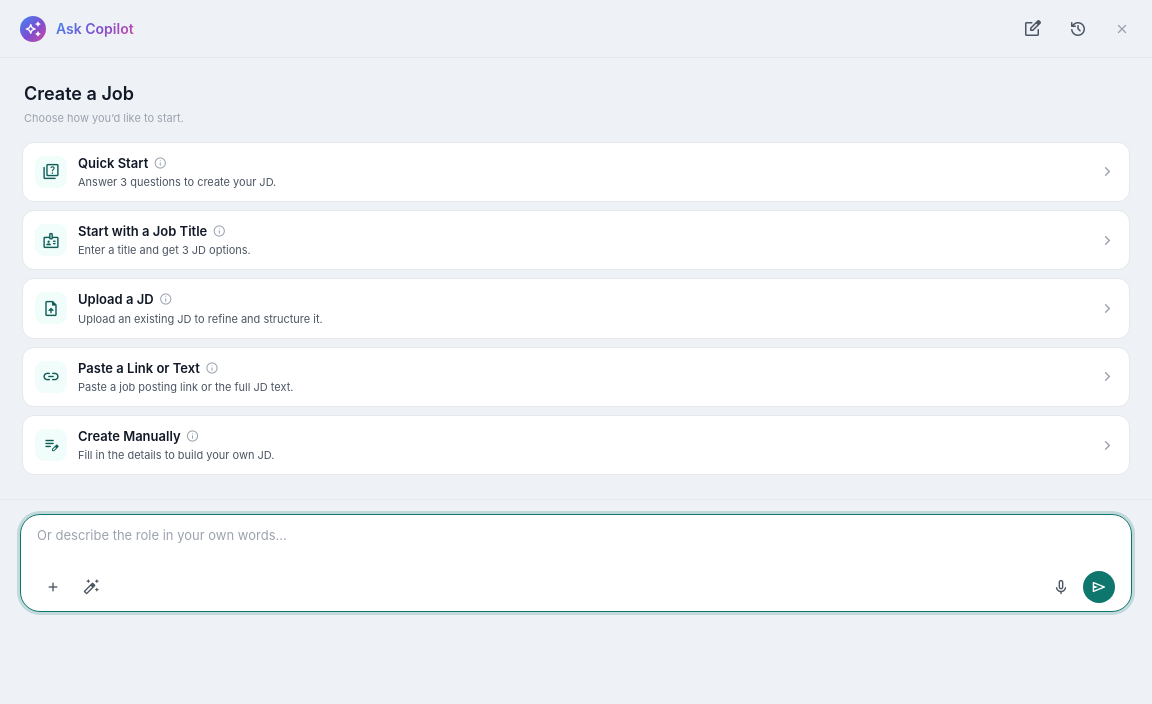
#99: refine only reports real changes › asked for salary but only other fields changed → says the salary was not changed, never "updated"
Click the text "Start with a Job Title": x=153, y=231 [78,222,228,240]
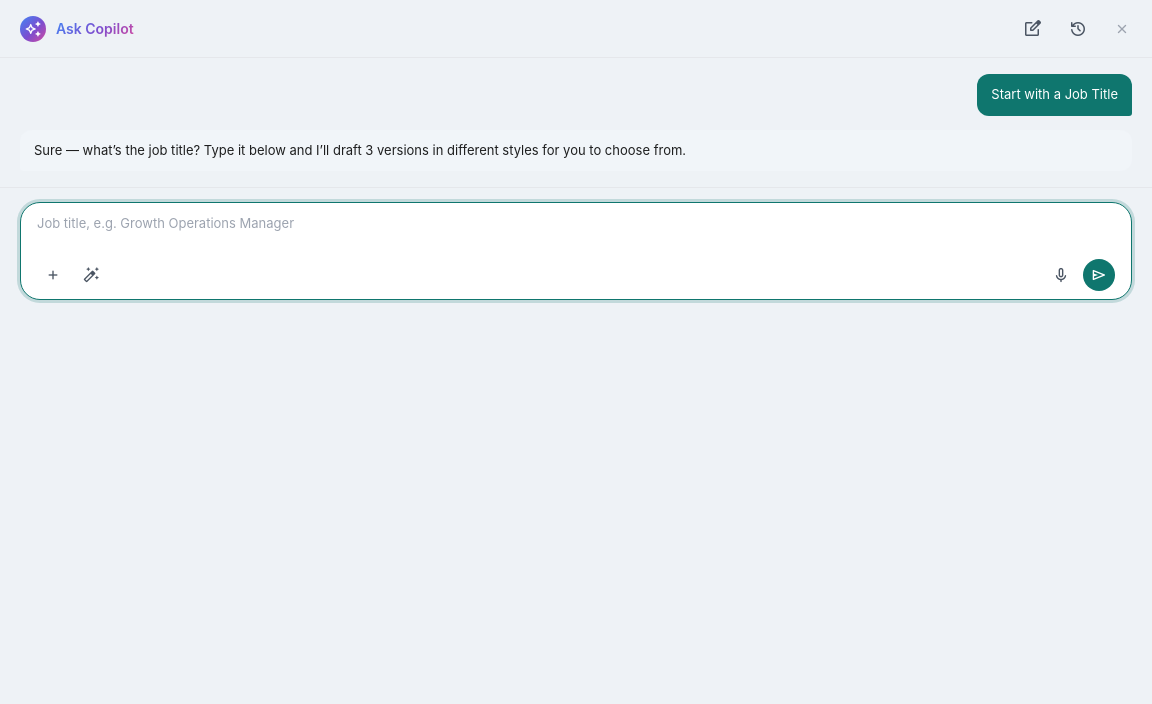
In the text box with placeholder "Job title, e.g. Growth Operations Manager": x=576, y=234 [37,214,1115,253], type "Finance Manager"
Click the button named "Send": x=1099, y=275 [1083,259,1115,291]
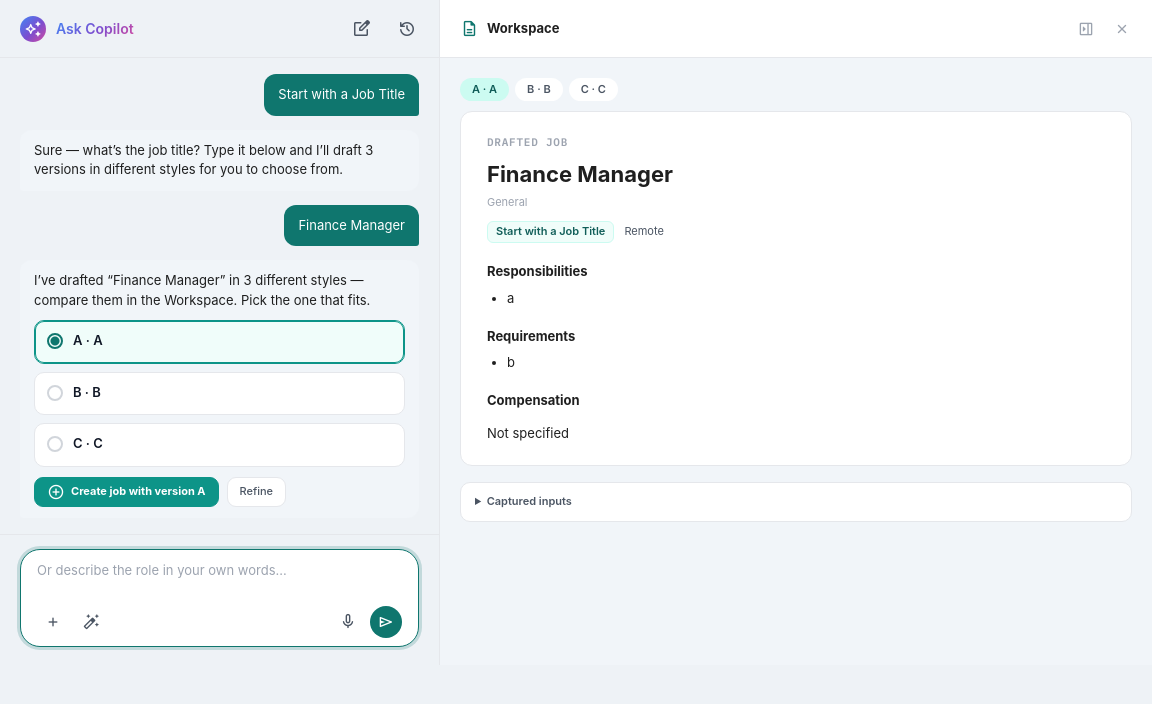
In the text box with placeholder "Or describe the role in your own words…": x=220, y=580 [37,560,402,600], type "按照上面的薪资标准写到JD里"
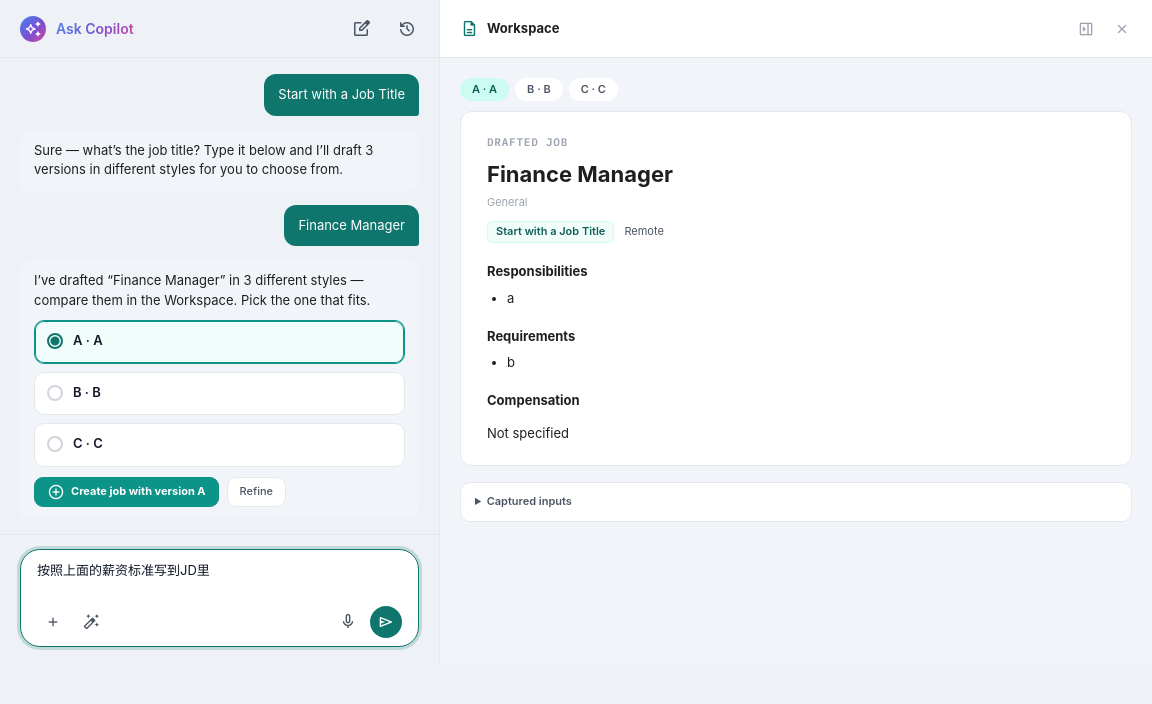
Click the button named "Send": x=386, y=622 [370,606,402,638]
(page scrolled)
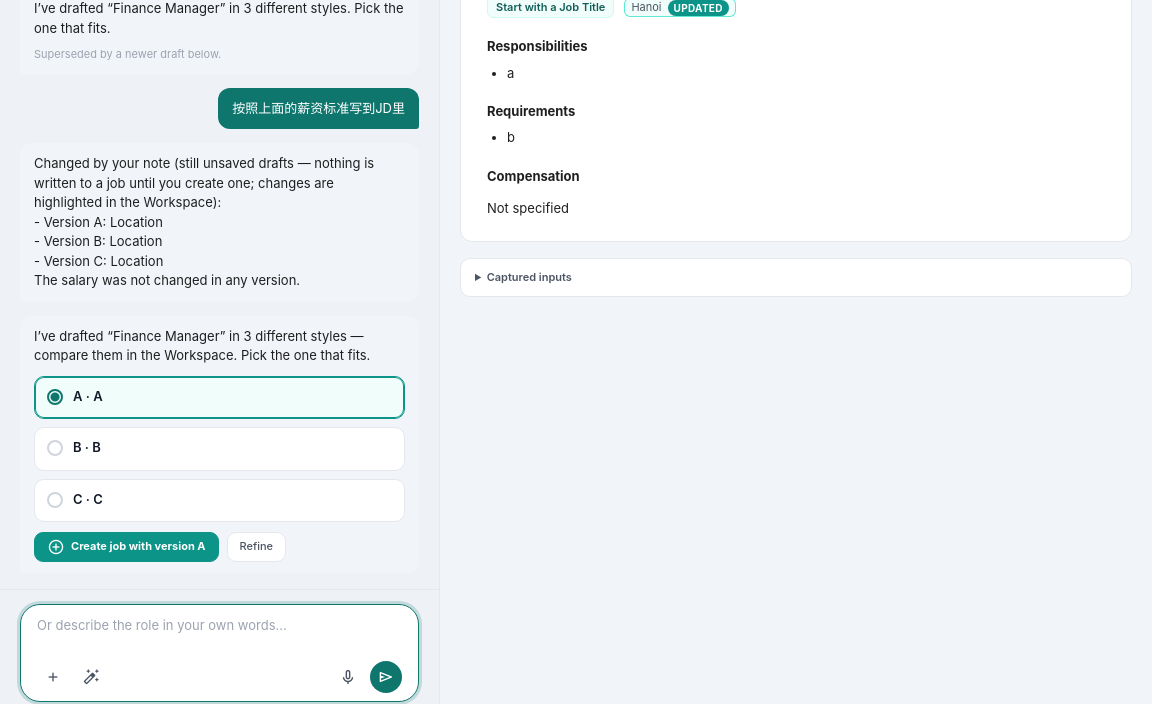
expect the text "still unsaved drafts" shows "- Version A: Location": met, box [34,155,378,288]
expect the text "still unsaved drafts" shows "The salary was not changed in any version.": met, box [34,155,378,288]
In the text box with placeholder "Or describe the role in your own words…": x=220, y=636 [37,616,402,655], type "add the salary 15-22K"
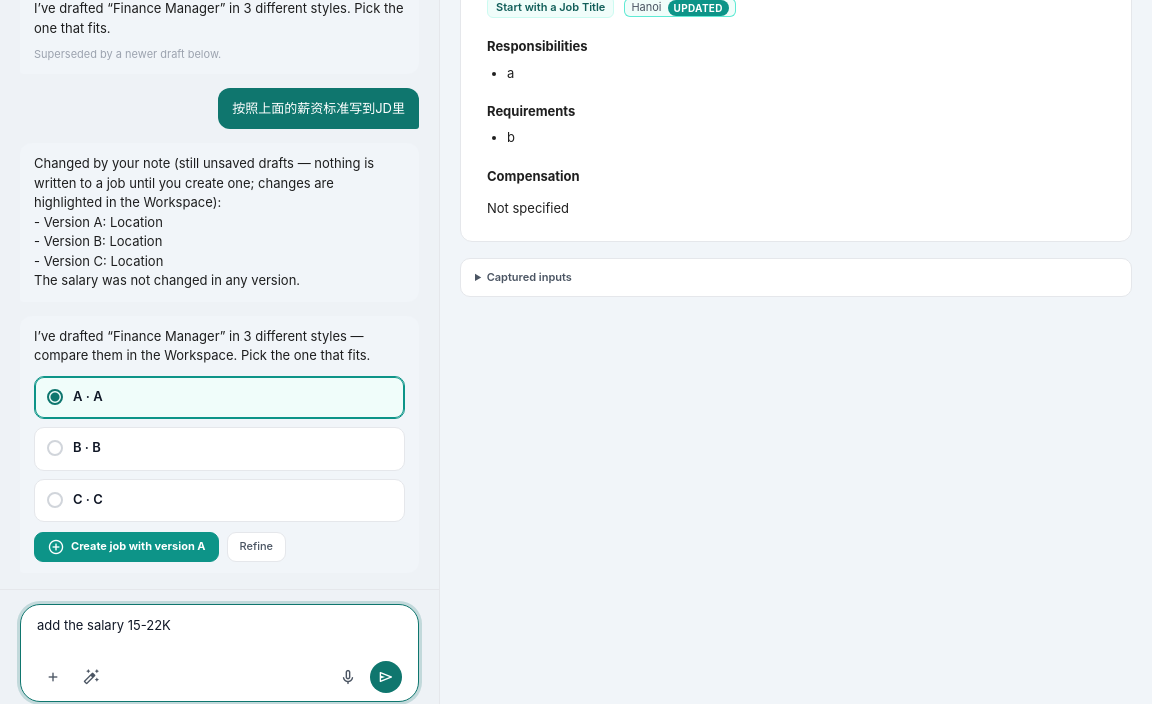
Click the button named "Send": x=386, y=677 [370,661,402,693]
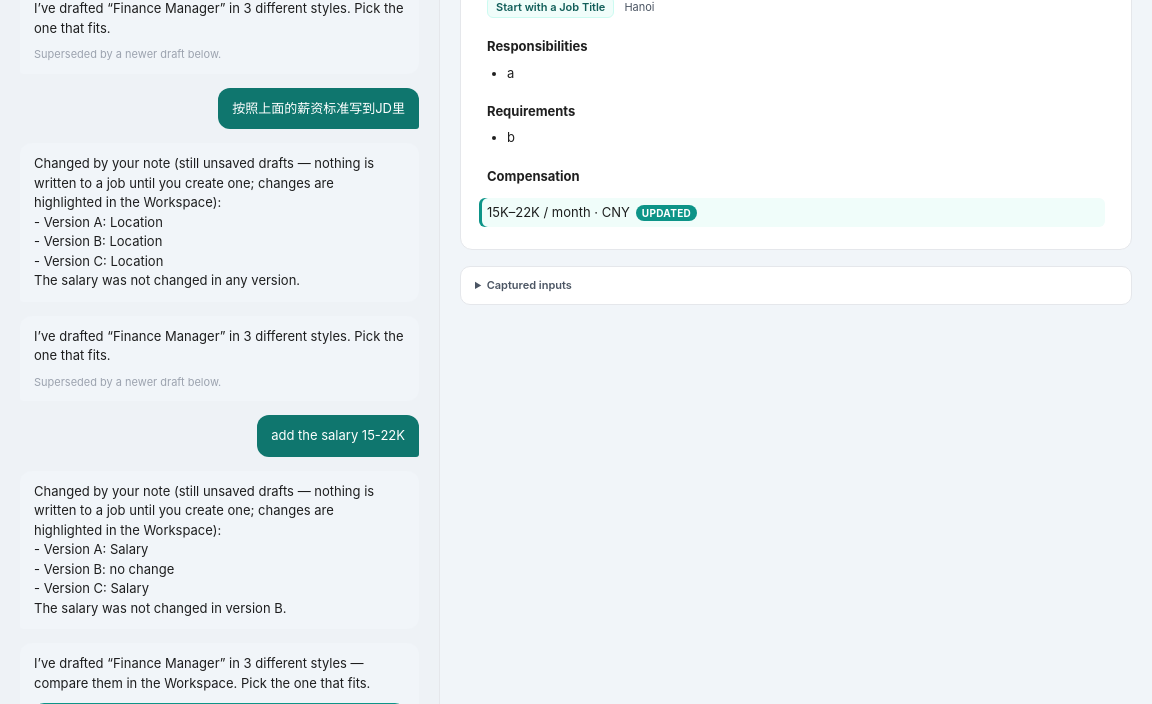
expect the text "- Version A: Salary" is shown: met, box [34,482,378,616]
